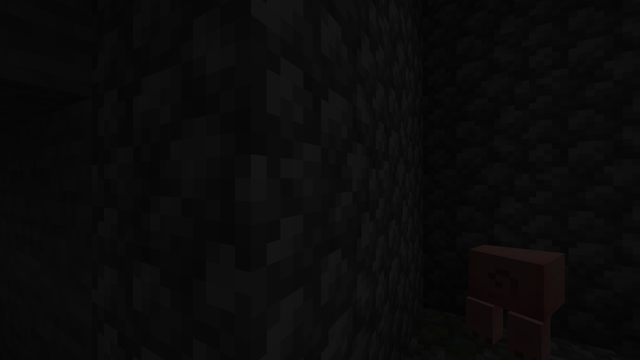cochons: (472, 237, 597, 355)
